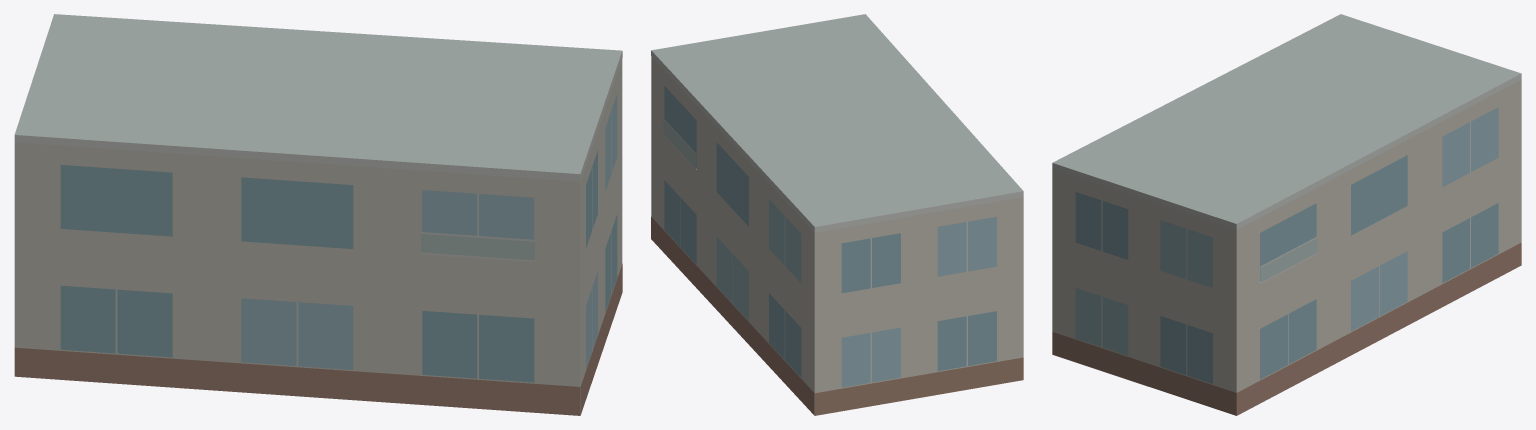
The model's file is survey-upis-32764952.glb.
3 views of the same model, side by side, from view 1: azimuth 30°, elevation 25°; view 2: azimuth 150°, elevation 25°; view 3: azimuth 270°, elevation 25° (orthographic). The views are drawn at different scales.
Parts seen in each view (by area): view 1: survey-upis-32764952.tmp; view 2: survey-upis-32764952.tmp; view 3: survey-upis-32764952.tmp.
Boxes of the visible parts, x1=… form: survey-upis-32764952.tmp: x1=14, y1=14, x2=622, y2=415; survey-upis-32764952.tmp: x1=651, y1=14, x2=1023, y2=415; survey-upis-32764952.tmp: x1=1052, y1=14, x2=1521, y2=415.
Bounding box in the file's own units: 18.44 × 7.85 × 17.41.
